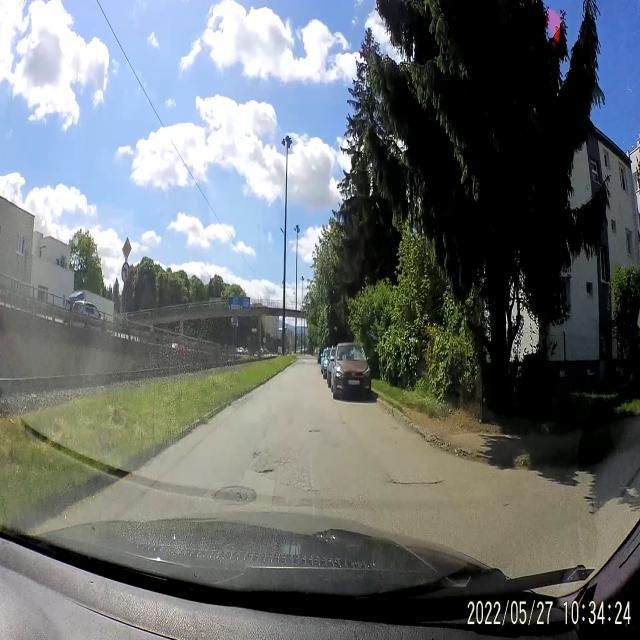Manhole: (210, 482, 258, 510)
Pothole: (389, 473, 442, 492), (250, 466, 278, 479), (308, 424, 321, 440), (252, 446, 263, 460)
